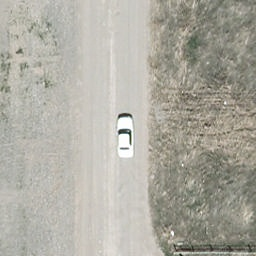car: (115, 111, 137, 159)
